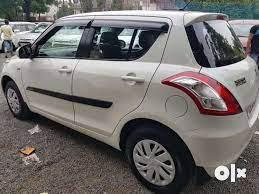Hatchback: (1, 9, 259, 192), (10, 22, 52, 57)
